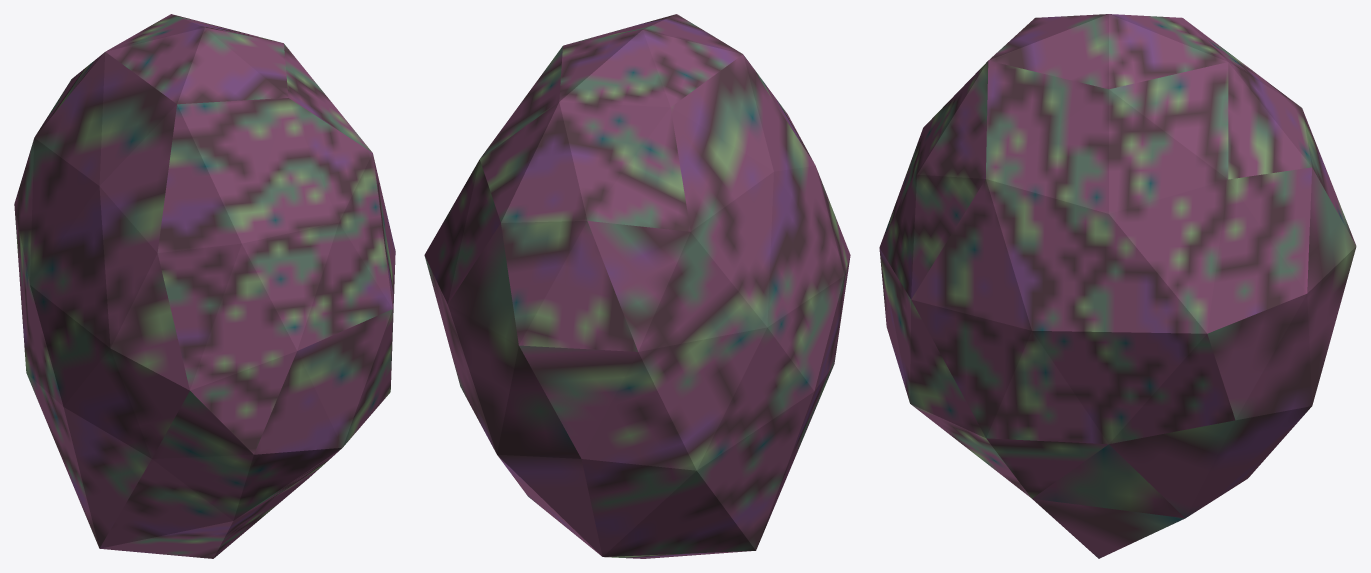
The model's file is Stone_Test1.obj.
The picture shows the model from 3 angles, left to right: view 1: azimuth 30°, elevation 25°; view 2: azimuth 150°, elevation 25°; view 3: azimuth 270°, elevation 25°; orthographic projection. The views are drawn at different scales.
Visible parts, largest first — view 1: Stone_1_Icosphere; view 2: Stone_1_Icosphere; view 3: Stone_1_Icosphere.
Part boxes in pixels (box(x1,y1,x2,y2)): Stone_1_Icosphere: box(14, 14, 395, 558); Stone_1_Icosphere: box(424, 14, 850, 558); Stone_1_Icosphere: box(879, 14, 1356, 558).
Bounding box in the file's own units: 3.77 × 5.88 × 4.68.
